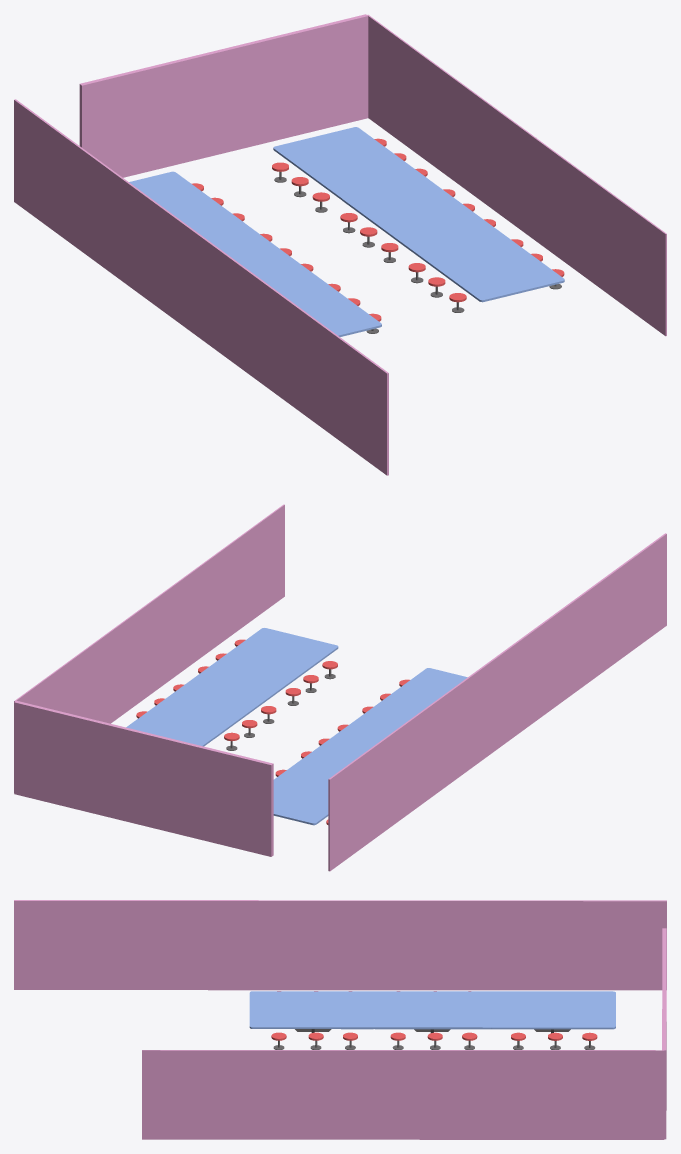
File: dining_Area_Two.dae
3 views of the same model, one above another, from view 1: azimuth 30°, elevation 25°; view 2: azimuth 150°, elevation 25°; view 3: azimuth 270°, elevation 25° (orthographic). The views are drawn at different scales.
Parts seen in each view (by area): view 1: Cube.007, Cube.004, Cube.008, table2, table2.001; view 2: Cube.007, Cube.008, Cube.004, table2, table2.001; view 3: Cube.007, Cube.004, table2.001, Cube.008.
Boxes of the visible parts, x1,y1,x2,y2 form: Cube.007: (14, 99, 388, 475); Cube.004: (367, 14, 666, 336); Cube.008: (79, 14, 368, 177); table2: (272, 127, 564, 312); table2.001: (129, 171, 381, 336); Cube.007: (328, 533, 666, 871); Cube.008: (14, 700, 273, 856); Cube.004: (14, 504, 284, 792); table2: (126, 628, 338, 750); table2.001: (273, 668, 467, 825); Cube.007: (14, 900, 666, 990); Cube.004: (142, 1050, 664, 1139); table2.001: (249, 991, 615, 1049); Cube.008: (662, 928, 666, 1139).
Bounding box in the file's own units: 11.25 × 20.6 × 3.25.
